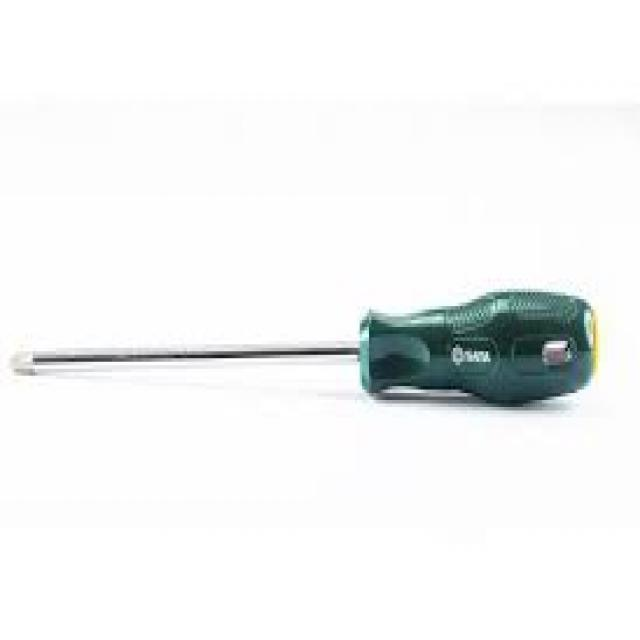screwdriver: (6, 292, 600, 407)
